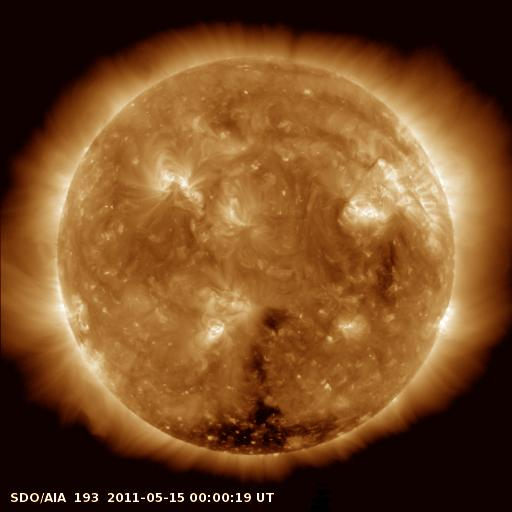coronal_hole: (182, 306, 353, 454)
